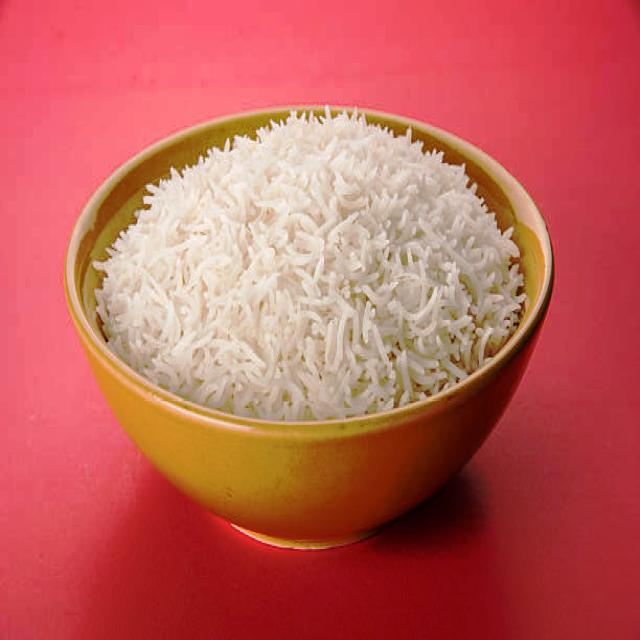rice: (94, 107, 526, 425)
